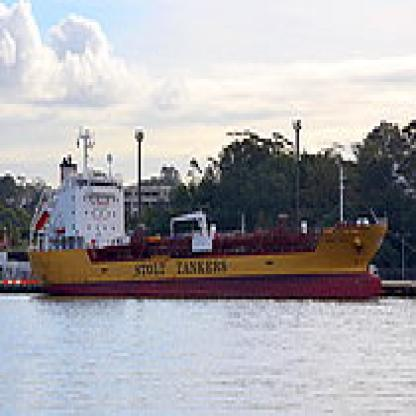Tanker: (24, 117, 400, 312)
